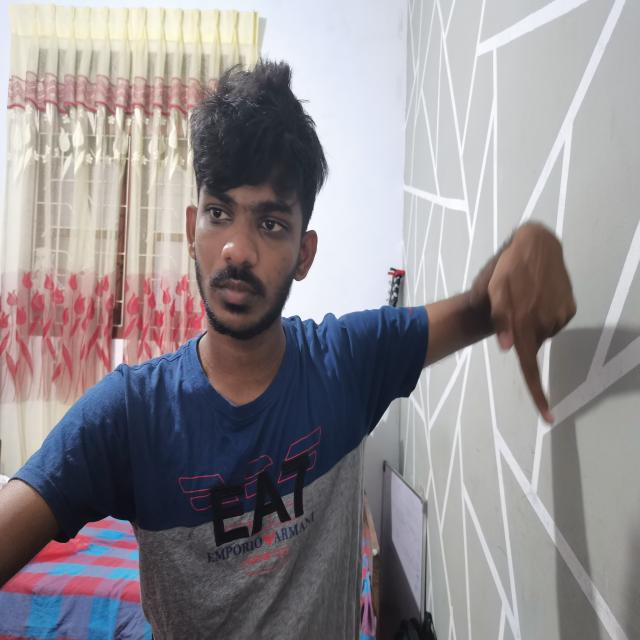Yes: (475, 208, 595, 426)
